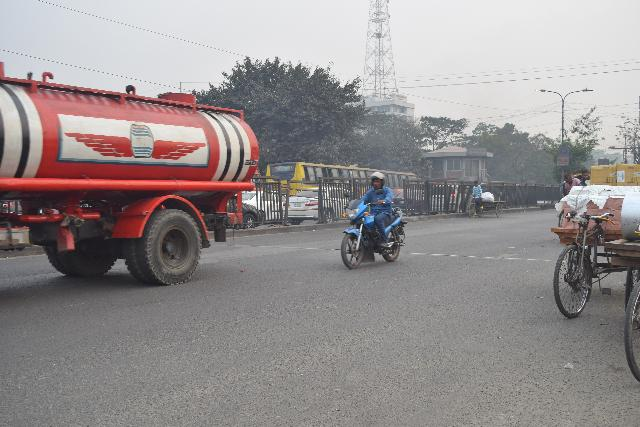motorcycle: (333, 174, 412, 271)
truck: (0, 25, 291, 312)
